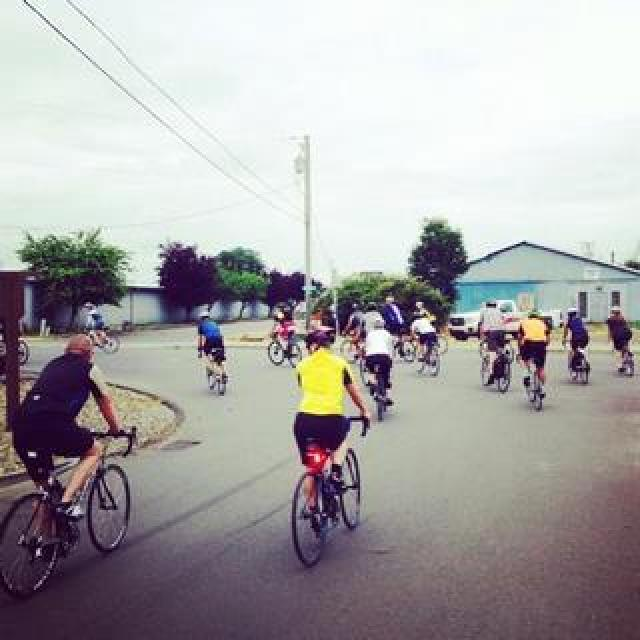Bus-Bike: (448, 314, 476, 340)
MC-Bike: (12, 334, 134, 530), (290, 326, 374, 500), (360, 312, 396, 408), (516, 306, 554, 394), (478, 302, 518, 382), (194, 312, 226, 372), (606, 308, 634, 372), (564, 310, 590, 378), (412, 312, 440, 370), (80, 302, 112, 350), (268, 306, 296, 358)
Person: (0, 432, 134, 598), (290, 432, 364, 568), (362, 358, 394, 422), (482, 340, 514, 392), (412, 334, 444, 378), (524, 358, 548, 412), (268, 330, 300, 368), (202, 350, 228, 396), (86, 328, 118, 356), (570, 348, 592, 386), (614, 344, 636, 378)
